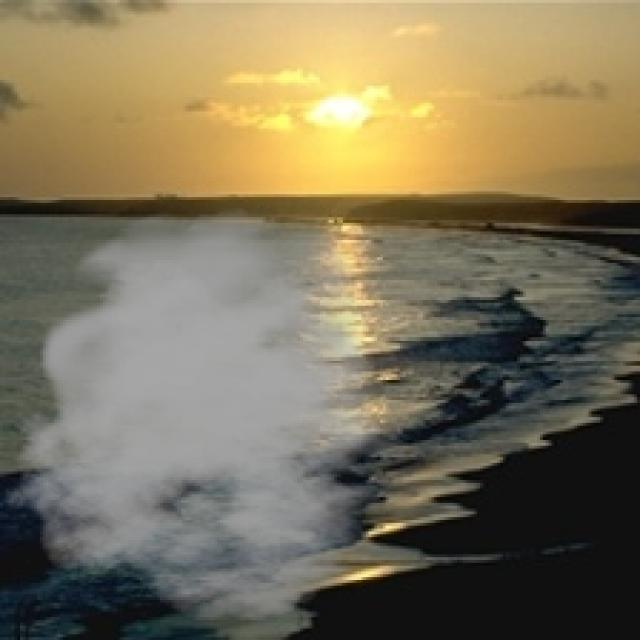Smoke: (2, 208, 428, 623)
